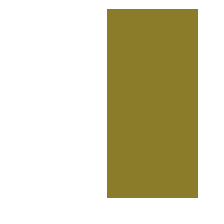rectangle: (107, 9, 197, 197)
